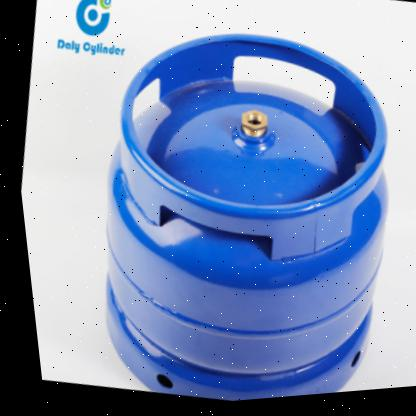gas-tank: (24, 0, 415, 414)
